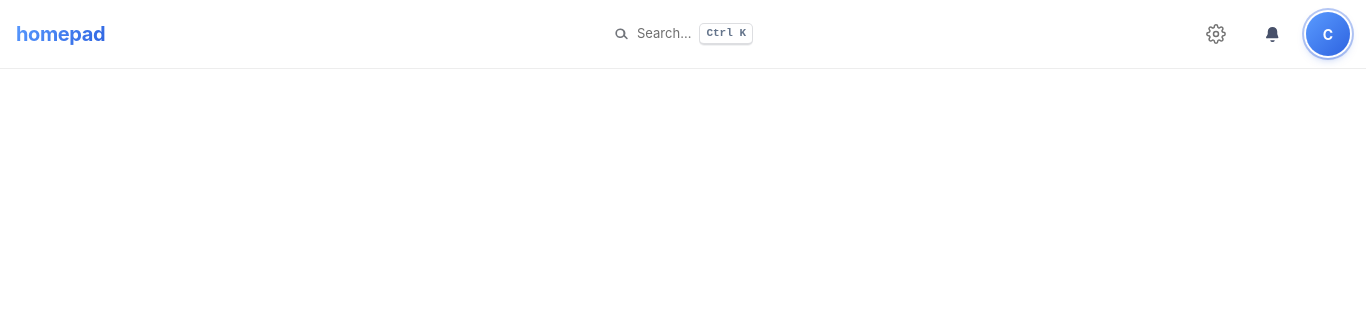
Scenario: A2 — personal items for all users › admin sees Add apps
Click the button with test id "settings-gear".
click(1216, 34)  # box top-left (1194, 12), bottom-right (1238, 56)
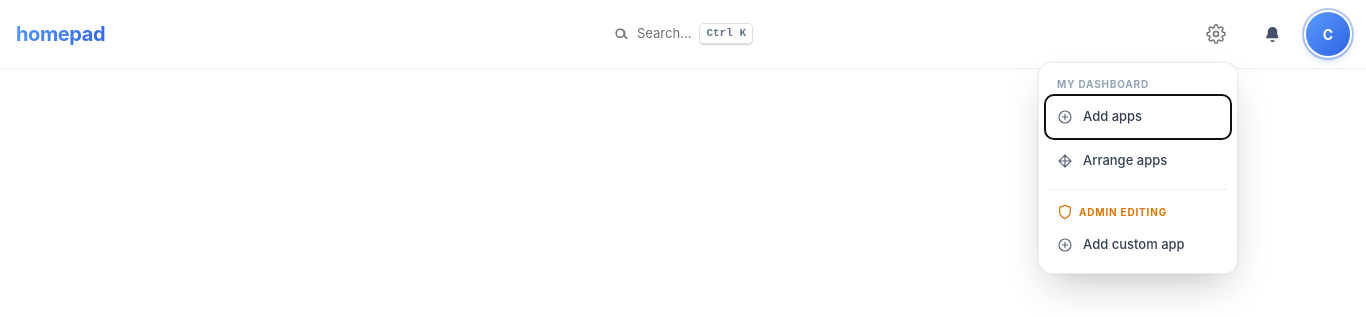
Result: the menu item with test id "gear-add-apps" reads "Add apps" at top-left (1045, 95), bottom-right (1231, 139)
